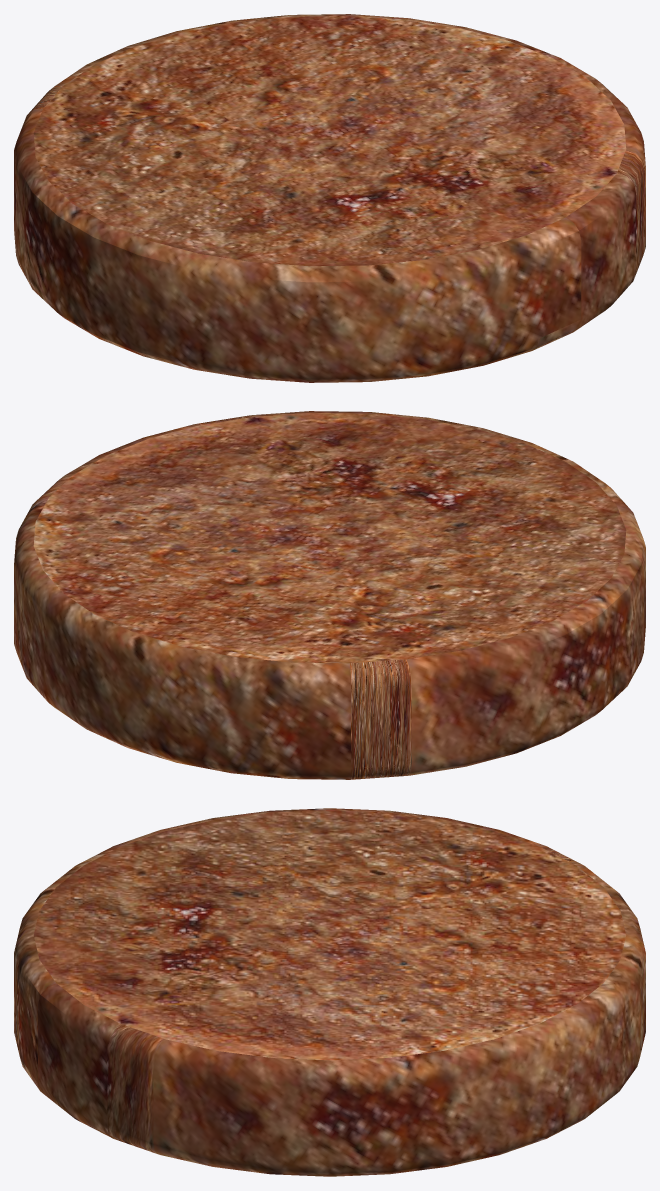
Rendered from patty gebakken We are cooked.fbx.
3 renders of one model, top to bottom at view 1: azimuth 30°, elevation 25°; view 2: azimuth 150°, elevation 25°; view 3: azimuth 270°, elevation 25°, orthographic.
Parts seen in each view (by area): view 1: burger.002; view 2: burger.002; view 3: burger.002.
Part boxes in pixels (x1,y1,x2,y2): burger.002: [14, 14, 645, 382]; burger.002: [14, 411, 645, 779]; burger.002: [14, 808, 645, 1176].
Bounding box in the file's own units: 9.27 × 1.85 × 9.27.
